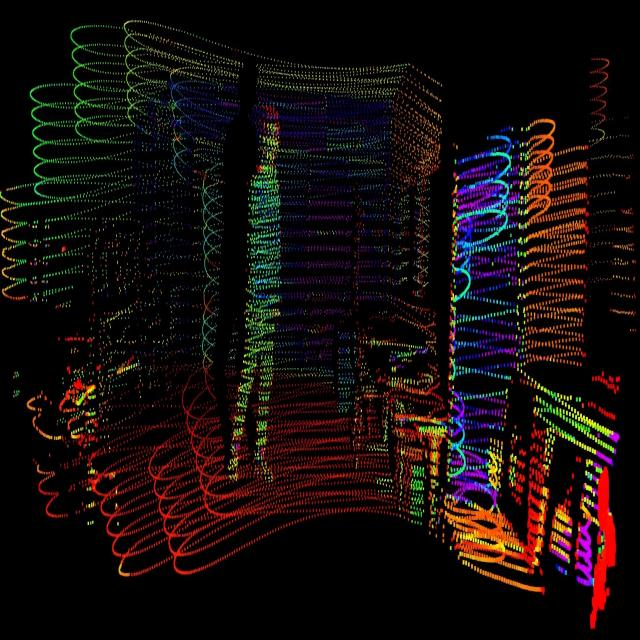human: (230, 97, 284, 487)
